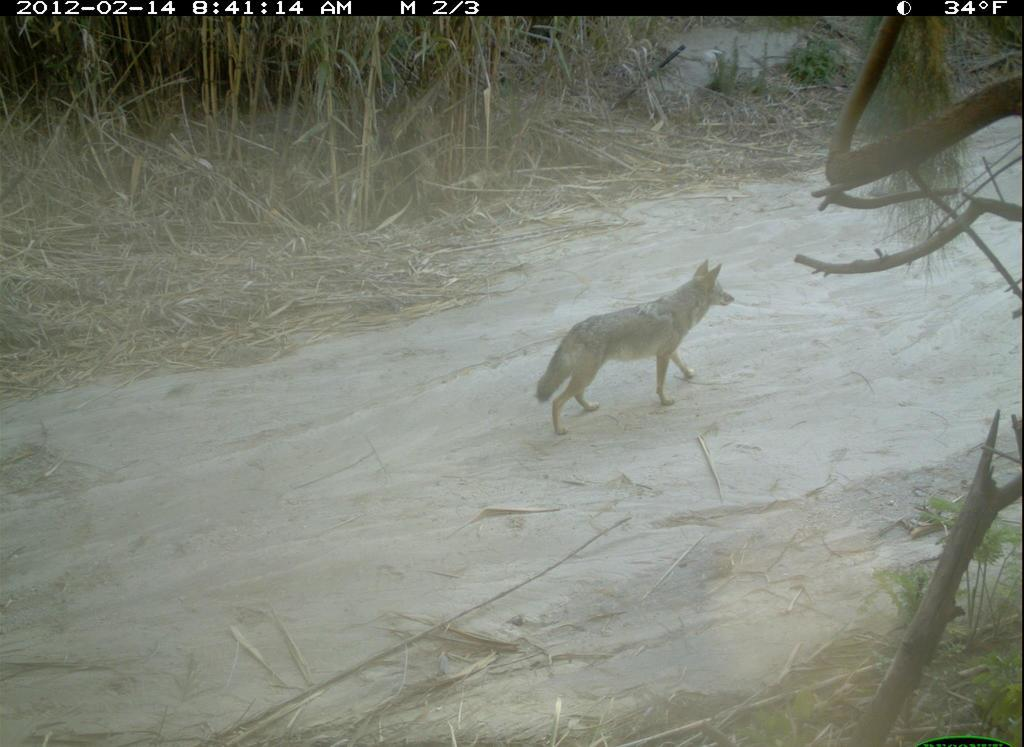coyote: (528, 258, 744, 442)
